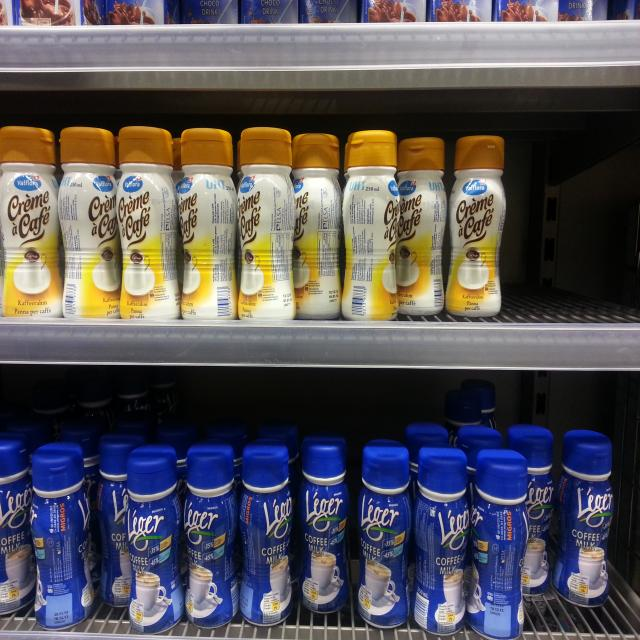Coffee: (116, 125, 180, 322), (0, 126, 63, 319), (234, 125, 296, 320), (30, 442, 94, 628), (125, 440, 186, 632), (59, 127, 119, 321), (179, 126, 239, 320), (472, 444, 530, 640), (342, 130, 400, 322), (412, 442, 470, 634), (354, 436, 411, 631), (181, 447, 240, 627), (447, 136, 505, 317), (558, 430, 616, 606), (241, 441, 292, 624), (292, 132, 341, 320), (398, 137, 446, 316), (301, 435, 348, 613), (508, 420, 554, 591), (0, 432, 37, 617), (98, 438, 137, 608)
